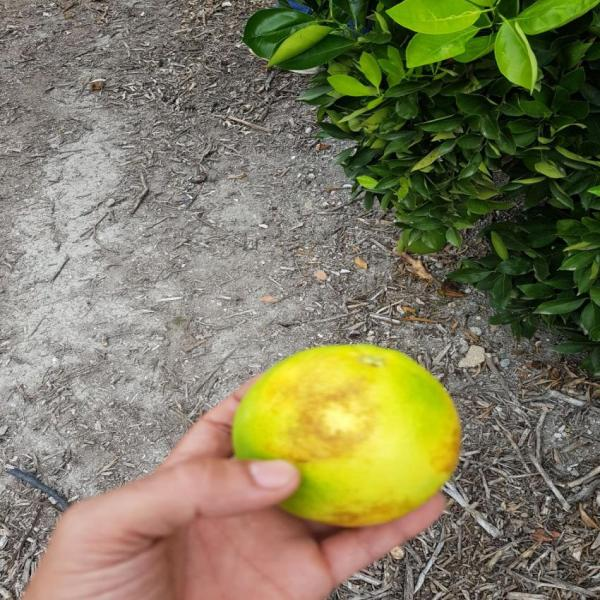Trips: (221, 334, 475, 541)
